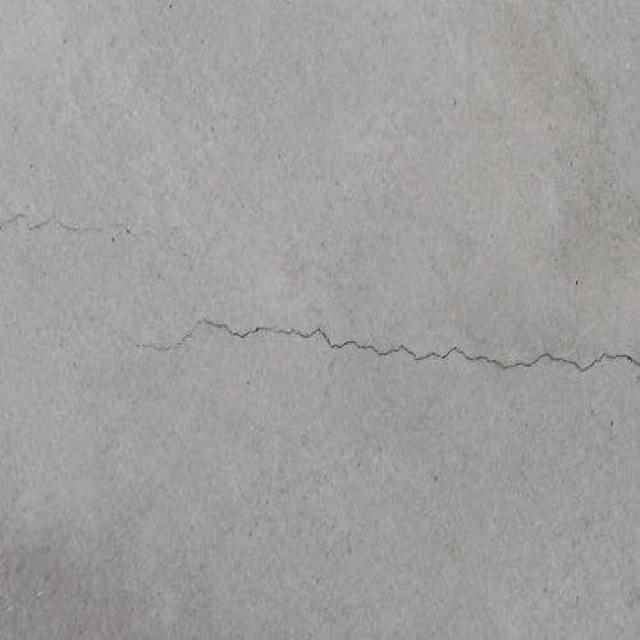Crack: (198, 312, 639, 376), (5, 205, 76, 232), (123, 324, 189, 352)
